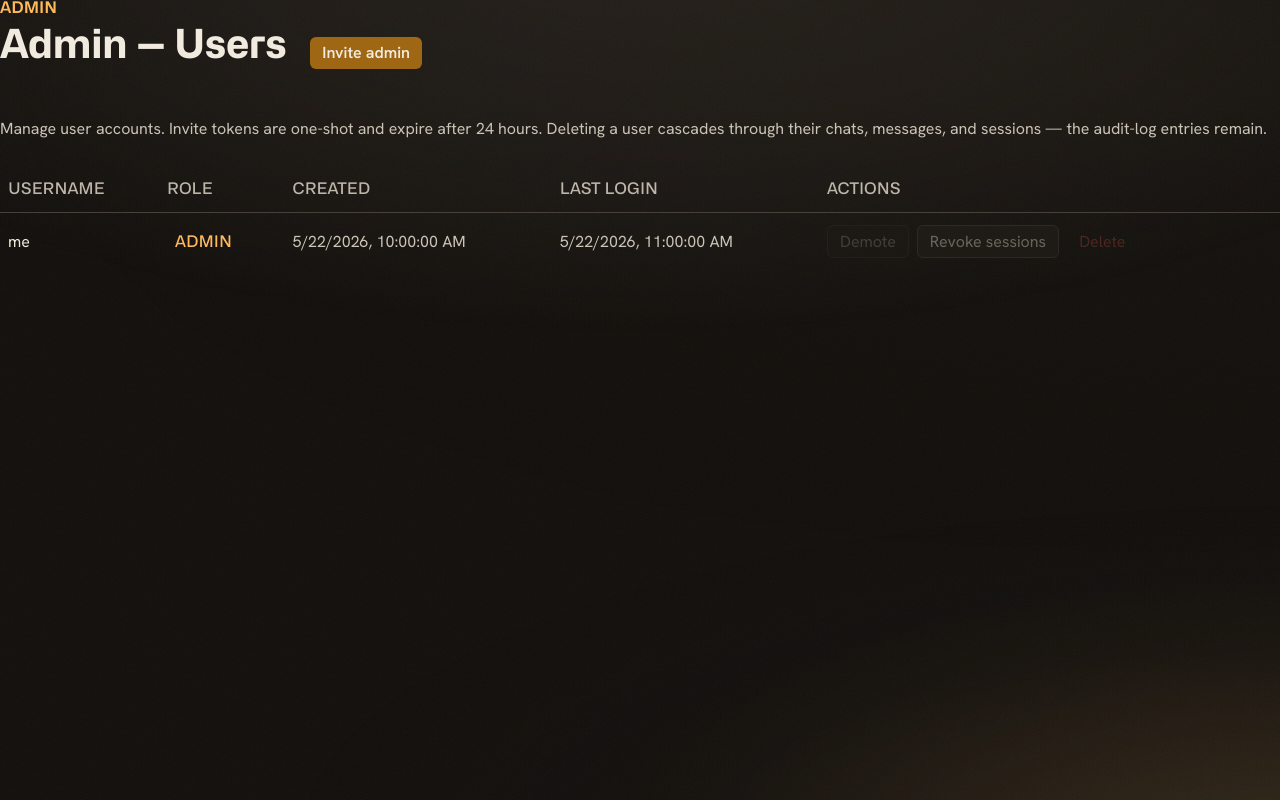
Test case: AdminUsers › Invite admin opens the modal with the issued token
The image size is (1280, 800).
Click the button with test id "invite-admin-btn".
click(366, 53)  # box [310, 37, 422, 69]
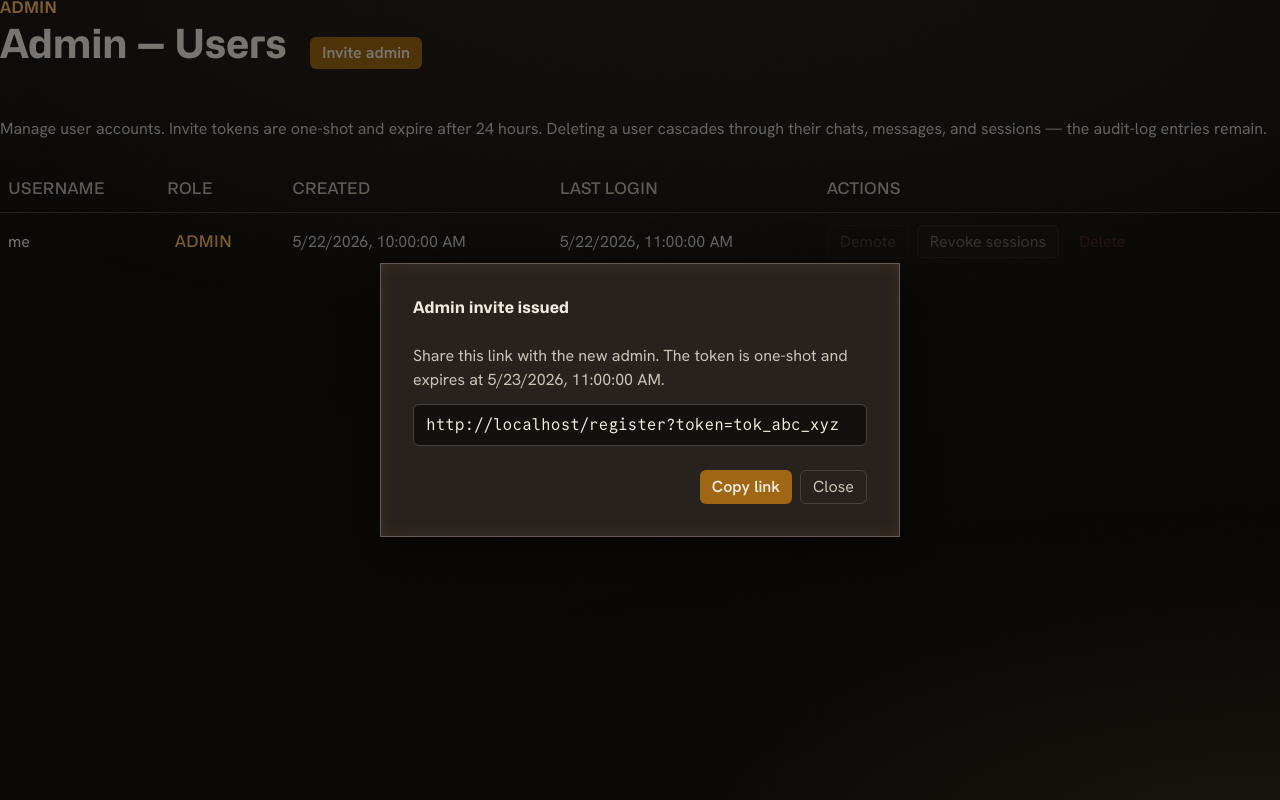
Expected: the dialog with test id "invite-modal" is shown
Expected: the text with test id "invite-token-link" shows "tok_abc_xyz", [426, 416, 839, 433]
Expected: the text with test id "invite-token-link" shows "/register?token=", [426, 416, 839, 433]
